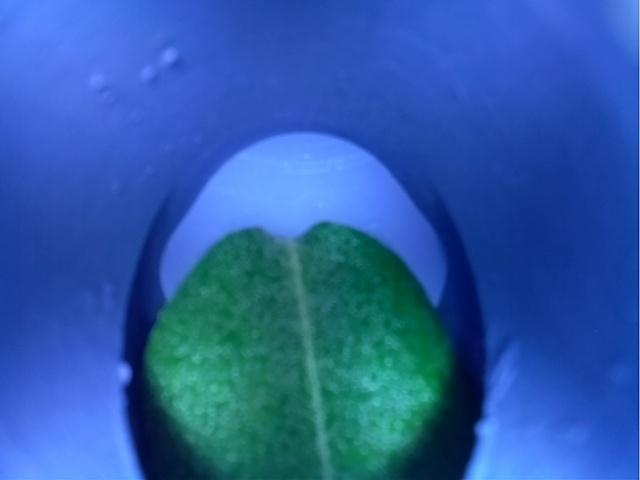feuille: (121, 211, 488, 480)
